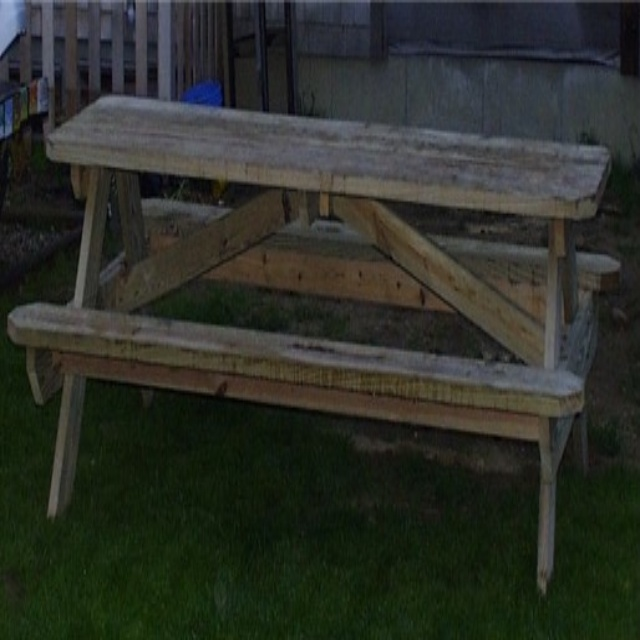obstacle: (5, 70, 629, 594)
